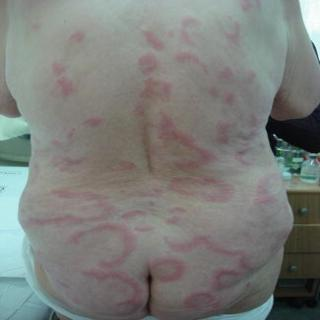urticaria: (63, 213, 145, 270)
